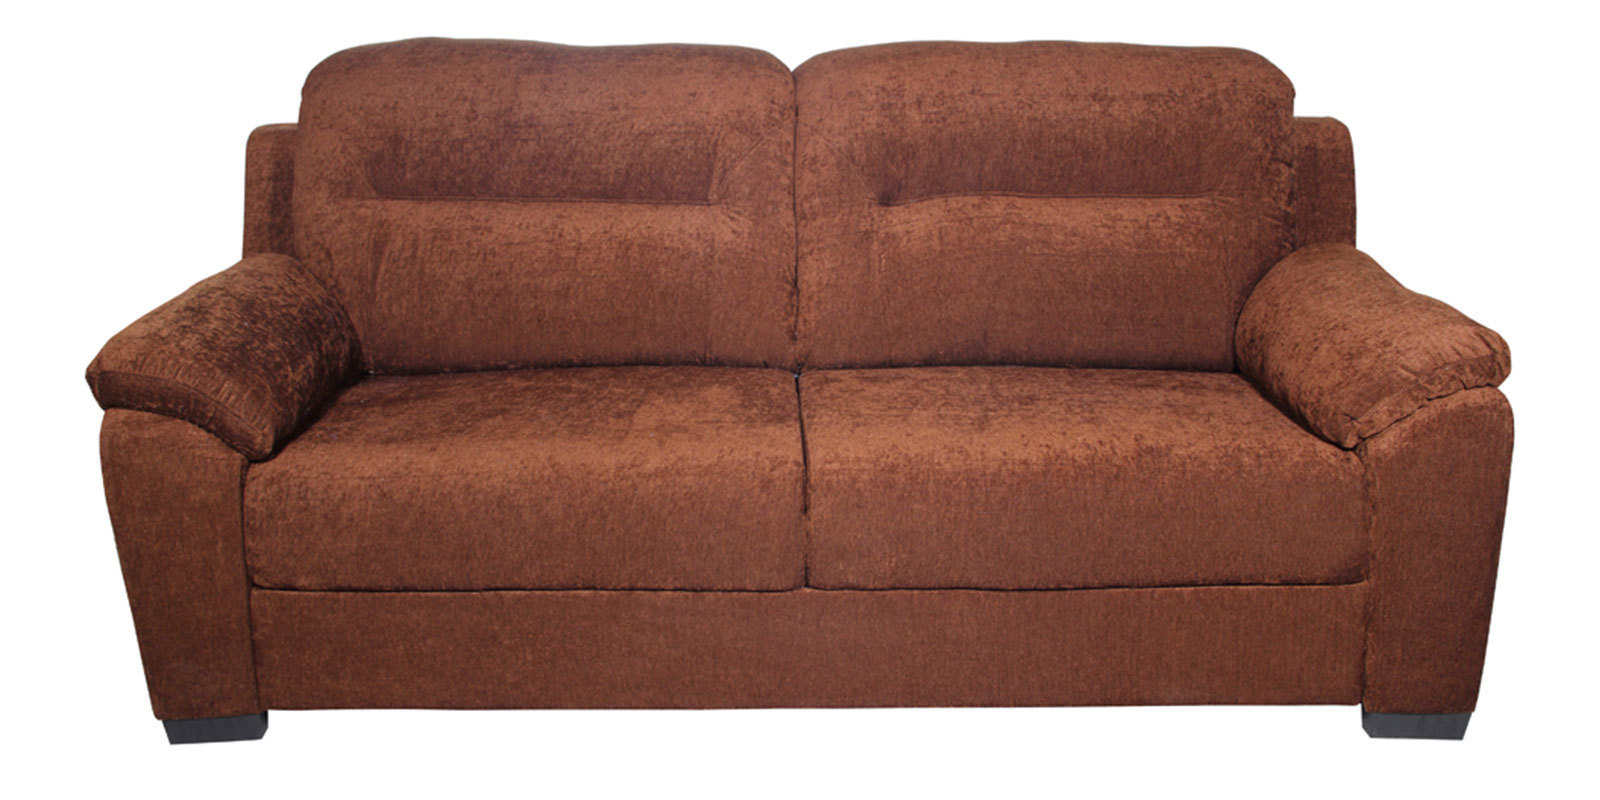Poland Three Seater Sofa in Chocolate Brown Colour by Furniture Mind: (84, 33, 1515, 747)
